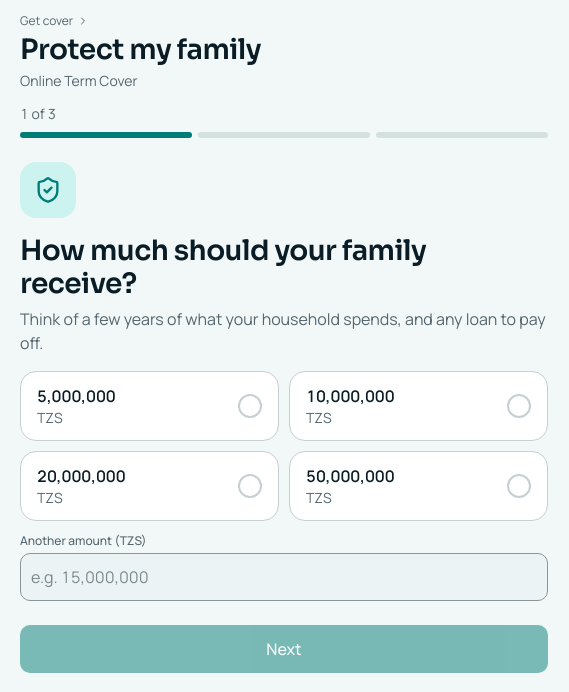
Test case: Get cover › prices cover one question at a time and shows what is paid against what the family gets
The image size is (569, 692).
expect the heading "How much should your family receive?" is shown: met, box [20,233,426,301]
expect the text "1 of 3" is shown: met, box [20,104,56,123]
Click the radio button labelled "10,000,000 TZS". click: (418, 406)
box: [289,371,548,441]
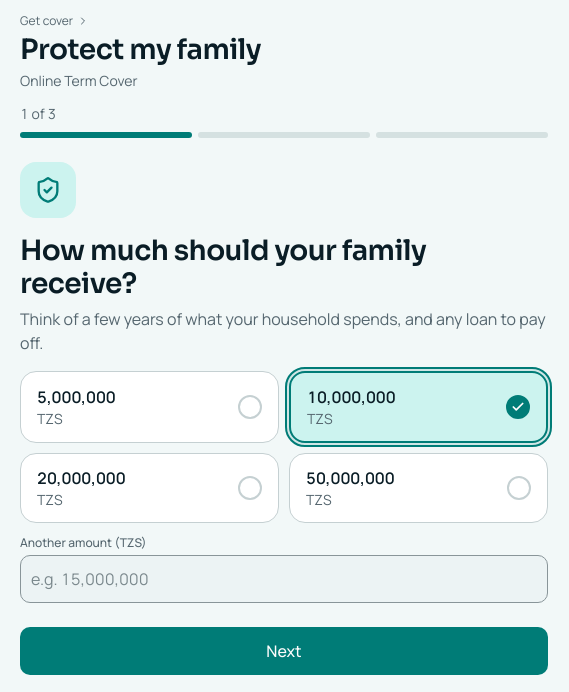
Click the button "Next". click: (284, 651)
box: [20,627,548,675]
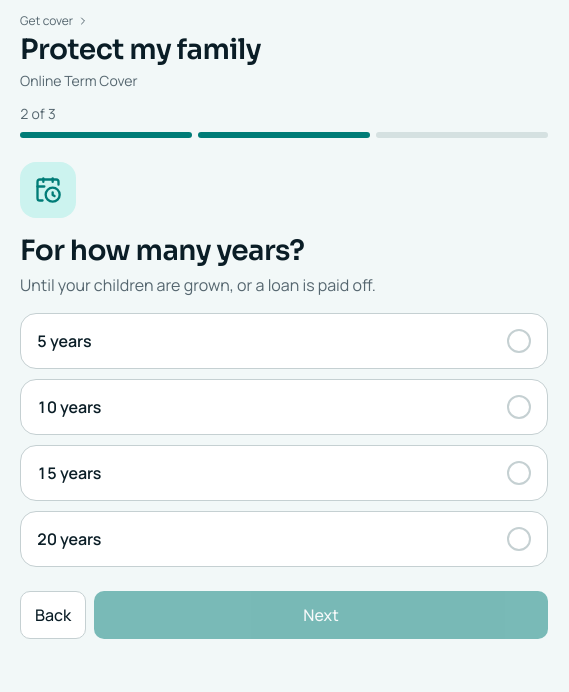
expect the radio buttons read "5 years", "10 years", "15 years", "20 years", in this order: met
Click the radio button labelled "10 years". click: (69, 407)
box: [20,379,548,435]
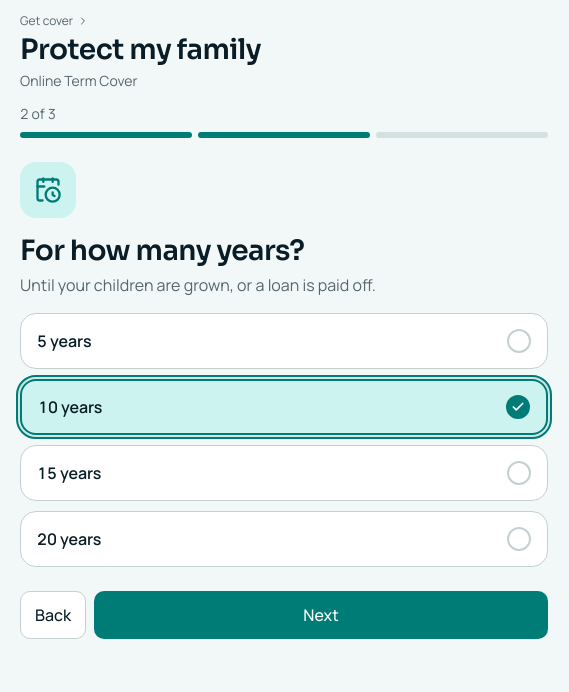
Click the button "Next". click: (321, 615)
box: [94,591,548,639]
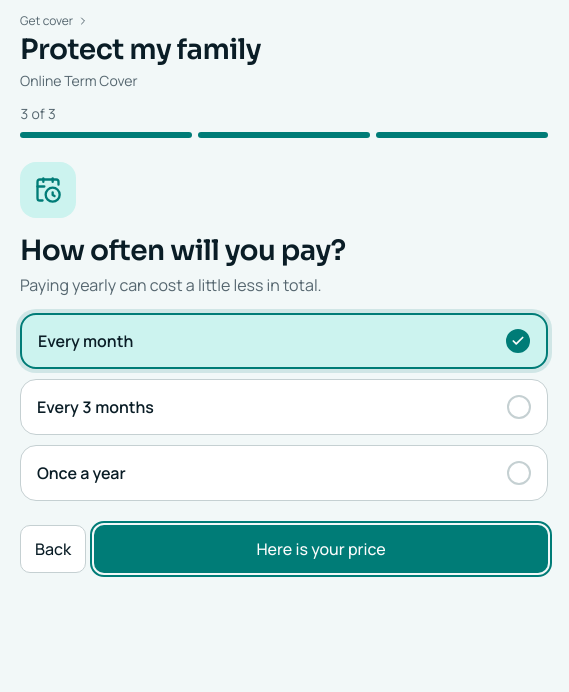
Click the button "Here is your price". click: (321, 549)
box: [94,525,548,573]
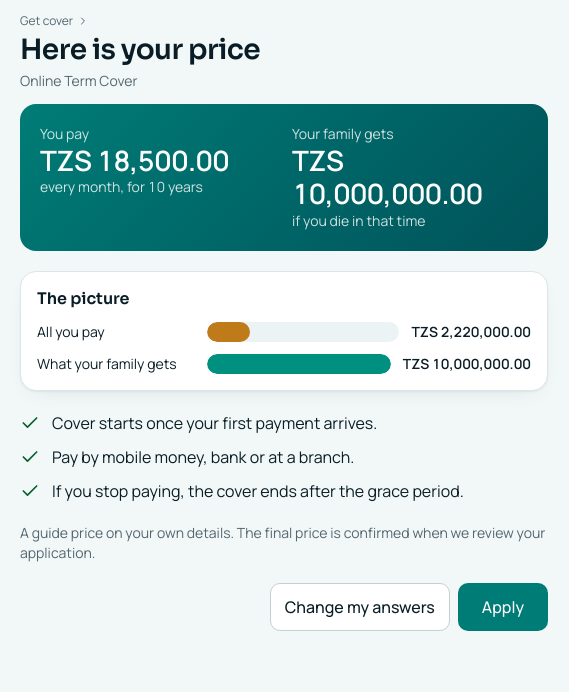
expect the button "Apply" is enabled: met, box [458,583,548,631]
expect the text "TZS 18,500.00" is shown: met, box [40,141,229,179]
